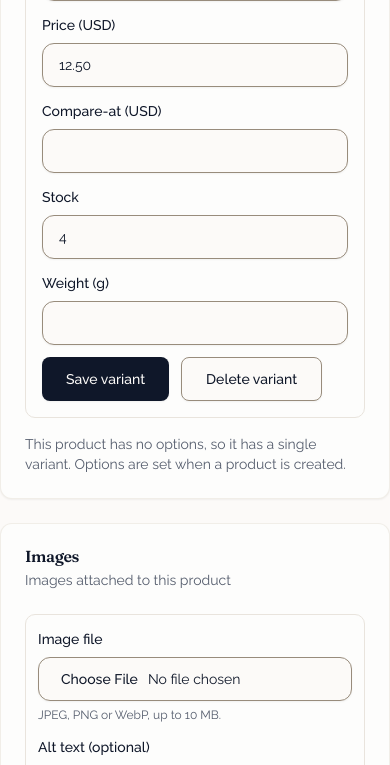
ProductEditor › needs a second click to delete a variant and relays the last-variant error
(page scrolled)
What coordinates should you click on to do the following:
click the button "Delete variant"
I would click on:
 (252, 379)
Its box is [181, 357, 322, 401].
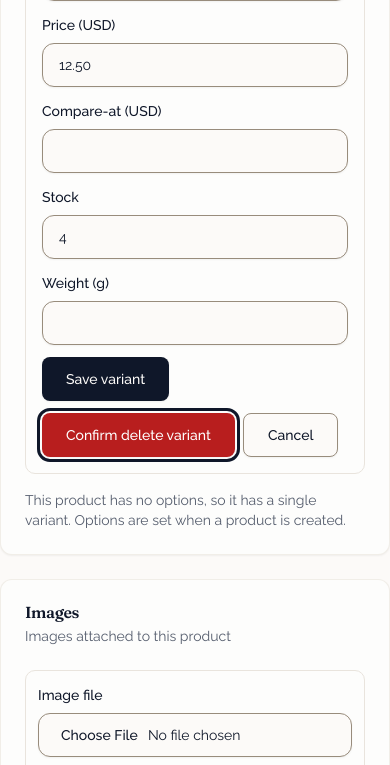
What coordinates should you click on to do the following:
click the button "Confirm delete variant"
I would click on:
 (138, 435)
Its box is [42, 413, 235, 457].
(page scrolled)
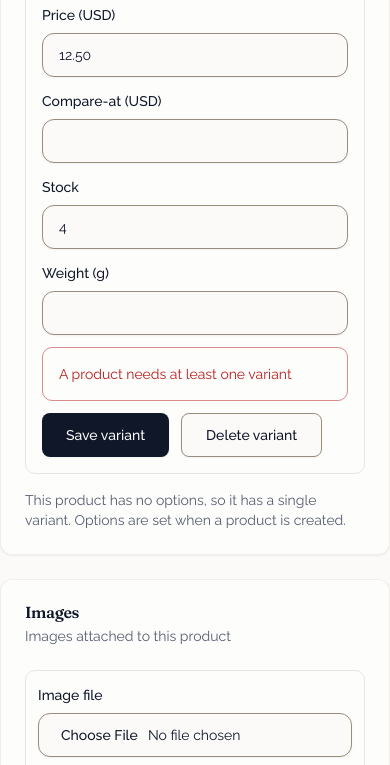
Expected: the text "A product needs at least one variant" is shown, [59, 364, 331, 384]
